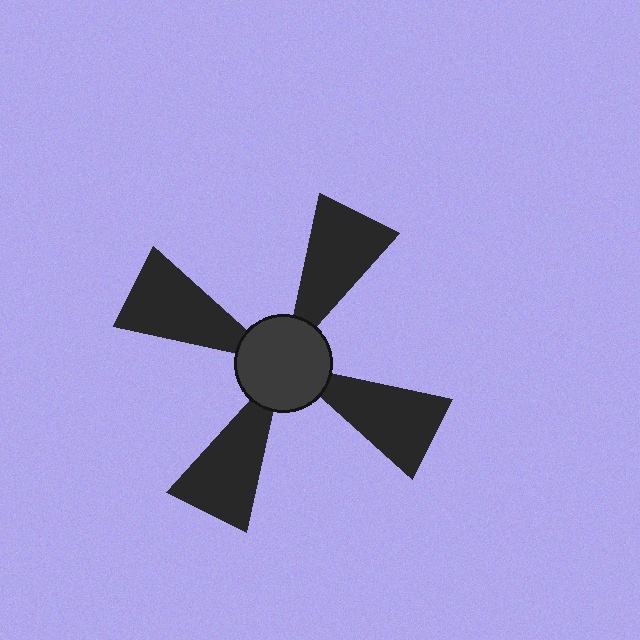fan: (85, 165, 481, 561)
